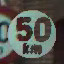Speed limit: (6, 7, 55, 58)
